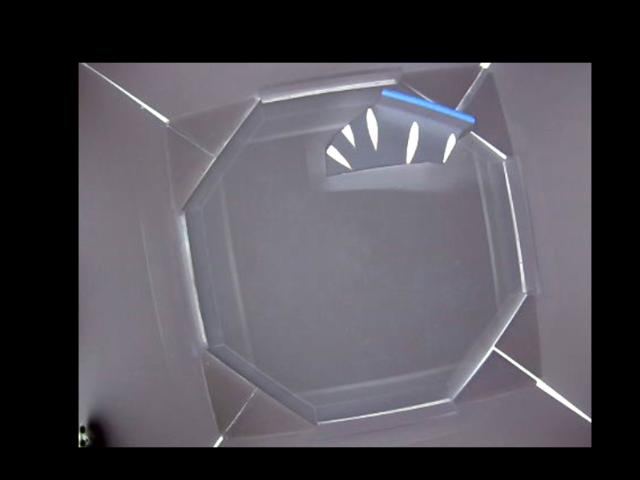China: (325, 87, 474, 179)
